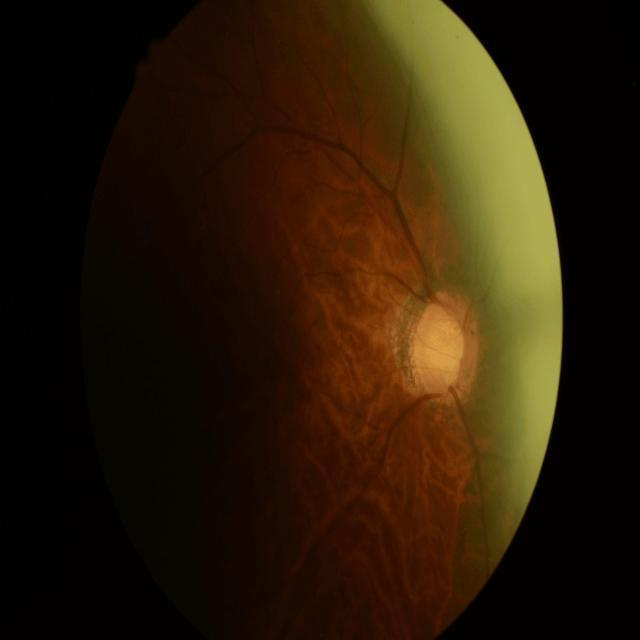cup: (418, 306, 466, 390)
disk: (410, 289, 479, 406)
